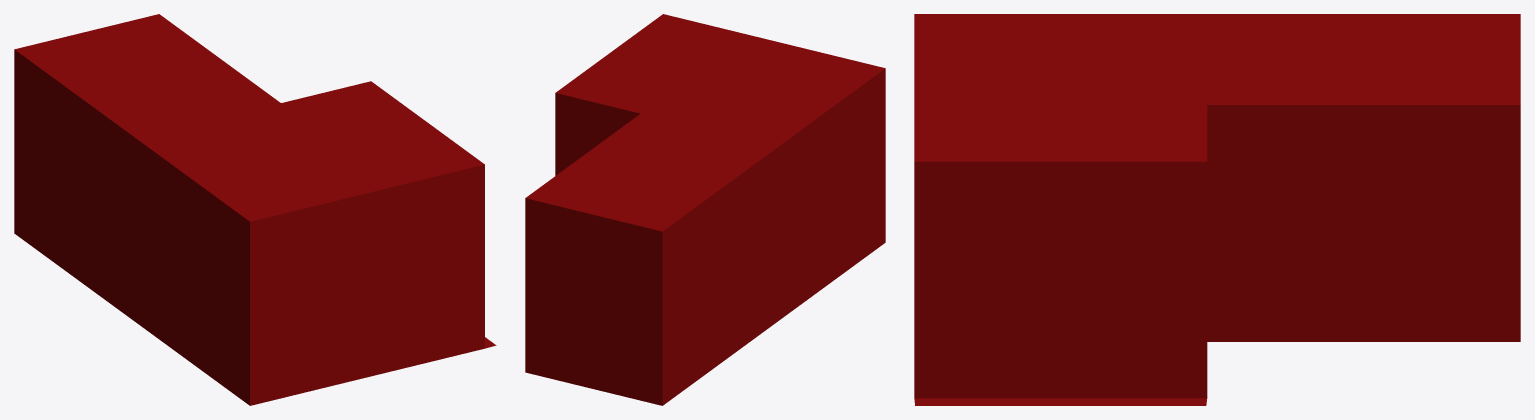
Rendered from New Game Object (100).obj.
3 renders of one model, left to right at view 1: azimuth 30°, elevation 25°; view 2: azimuth 150°, elevation 25°; view 3: azimuth 270°, elevation 25°, orthographic. The views are drawn at different scales.
Parts seen in each view (by area): view 1: New Game Object (100)_0, New Game Object (100)_1; view 2: New Game Object (100)_0, New Game Object (100)_1; view 3: New Game Object (100)_0, New Game Object (100)_1.
Part boxes in pixels (x1,y1,x2,y2): New Game Object (100)_0: (14,49,496,405); New Game Object (100)_1: (15,14,487,339); New Game Object (100)_0: (525,68,885,405); New Game Object (100)_1: (525,14,885,231); New Game Object (100)_0: (914,105,1520,405); New Game Object (100)_1: (914,14,1520,405).
Bounding box in the file's own units: 13.98 × 9.96 × 23.11.
